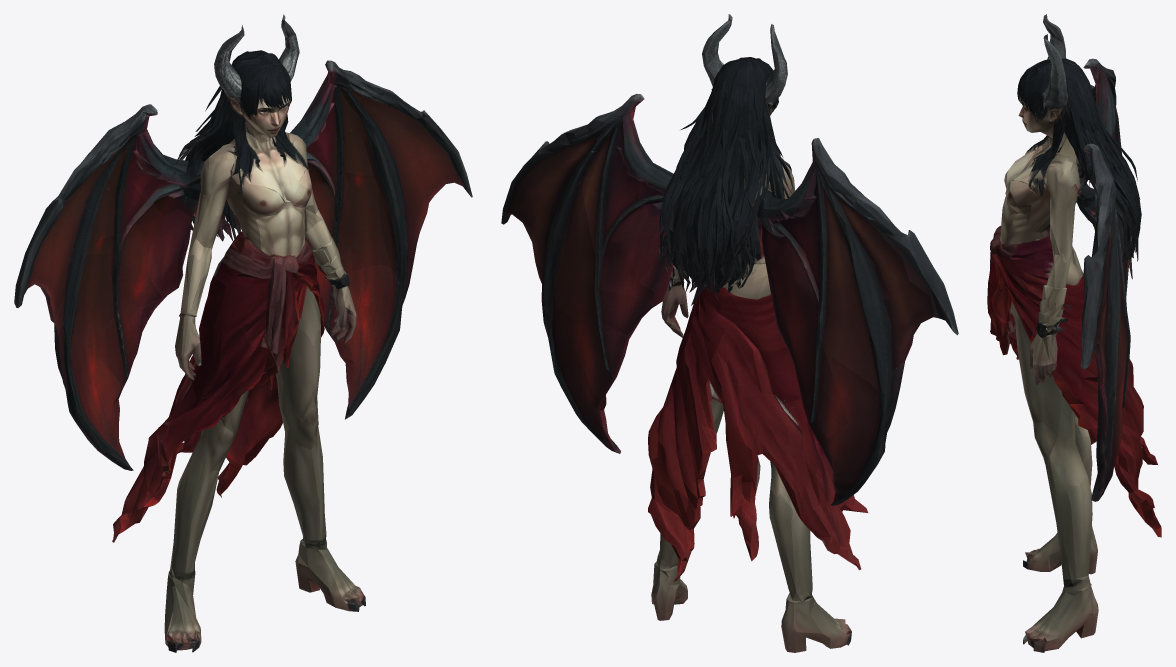
The model's file is manananggal.glb.
3 views of the same model, side by side, from view 1: azimuth 30°, elevation 25°; view 2: azimuth 150°, elevation 25°; view 3: azimuth 270°, elevation 25° (orthographic). The views are drawn at different scales.
Parts seen in each view (by area): view 1: mesh_node; view 2: mesh_node; view 3: mesh_node.
Part boxes in pixels (bbox=[...]): mesh_node: bbox=[14, 14, 472, 652]; mesh_node: bbox=[501, 14, 958, 652]; mesh_node: bbox=[987, 14, 1161, 652].
Bounding box in the file's own units: 1.5 × 1.9 × 0.5147.
1 material, 1 textured.
